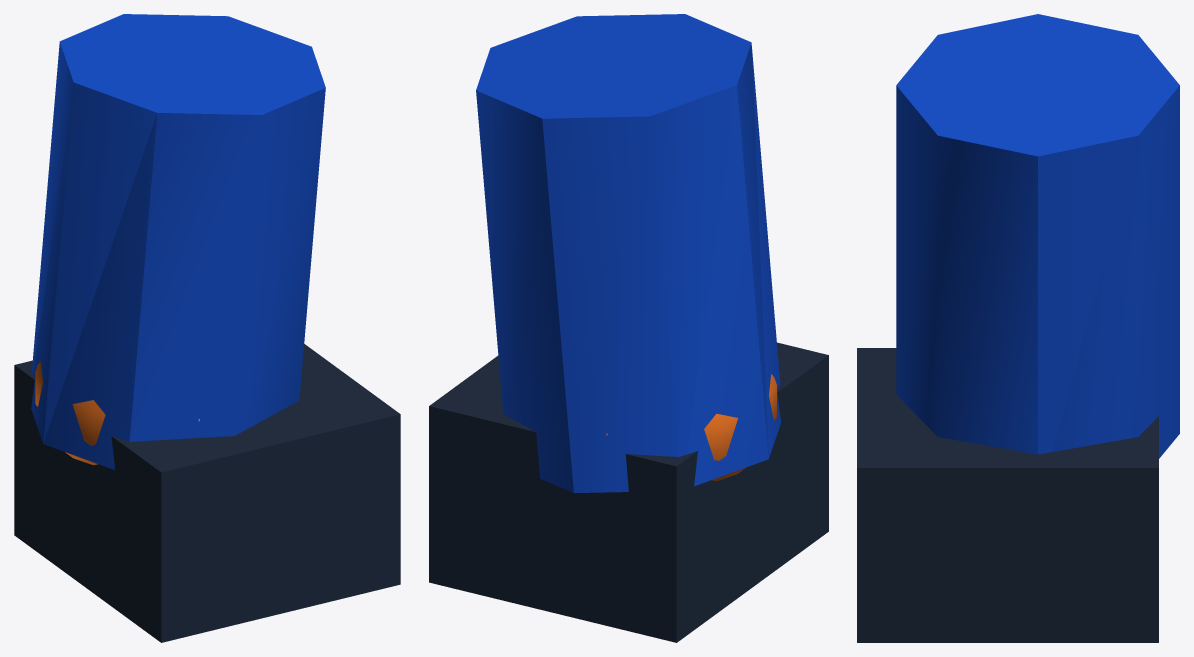
The model's file is LeftArm.glb.
3 renders of one model, left to right at view 1: azimuth 30°, elevation 25°; view 2: azimuth 150°, elevation 25°; view 3: azimuth 270°, elevation 25°, orthographic. The views are drawn at different scales.
Visible parts, largest first — view 1: upper, hand, elbow; view 2: upper, hand, elbow; view 3: upper, hand.
Part boxes in pixels (x1,y1,x2,y2): upper: (31, 14, 325, 469); hand: (14, 344, 400, 642); elbow: (35, 362, 199, 465); upper: (476, 14, 780, 492); hand: (429, 342, 828, 642); elbow: (606, 374, 776, 481); upper: (896, 14, 1179, 458); hand: (857, 348, 1158, 642).
Size of the model in its own units: 1.06 by 1.86 by 1.07.
